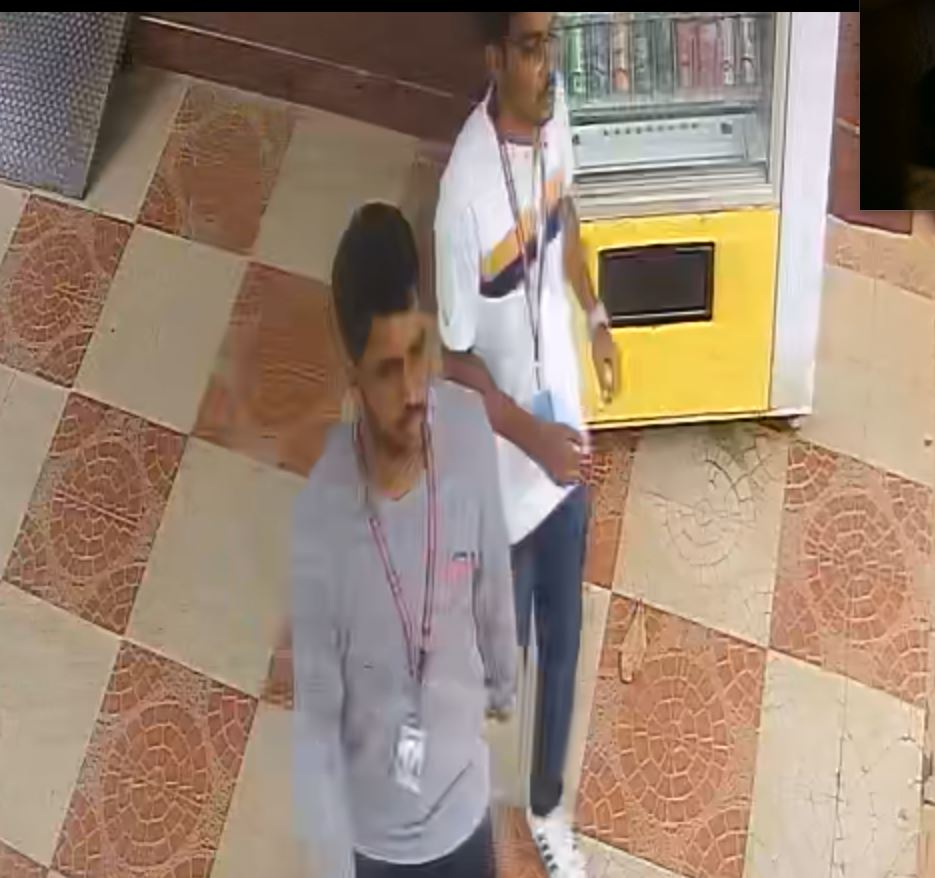intruder: (263, 211, 546, 878), (438, 2, 605, 838)
